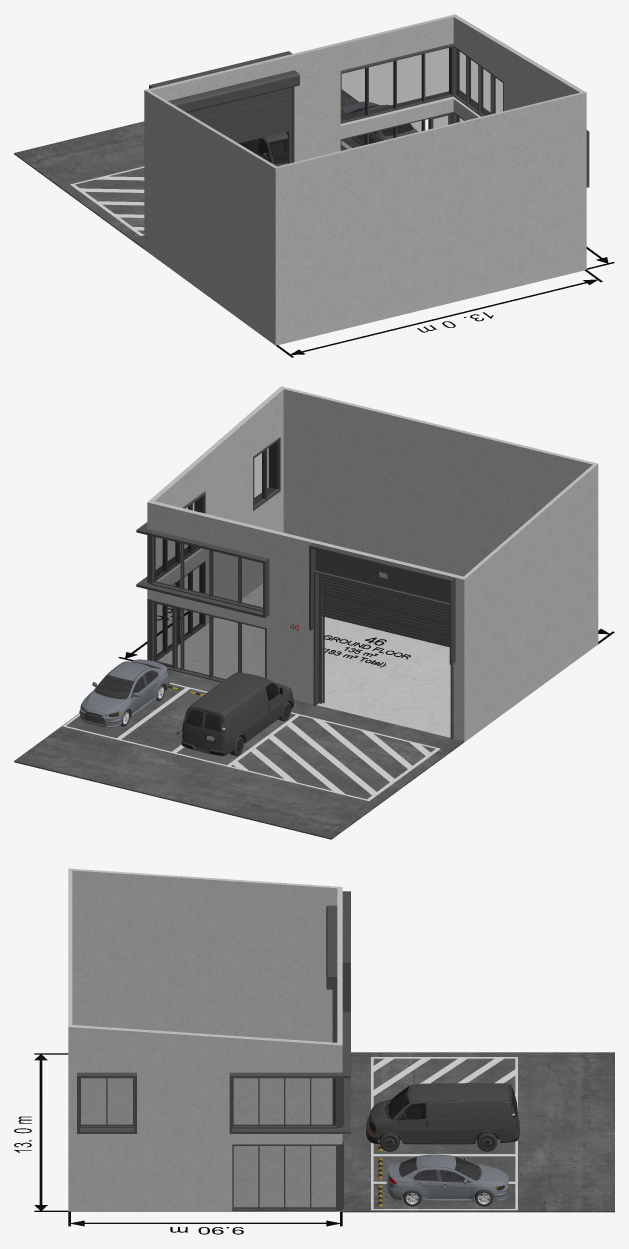
The model's file is Without_Mezzanine.glb.
The picture shows the model from 3 angles, top to bottom: view 1: azimuth 30°, elevation 25°; view 2: azimuth 150°, elevation 25°; view 3: azimuth 270°, elevation 25°; orthographic projection. The views are drawn at different scales.
Visible parts, largest first — view 1: Object1746169868.002, Object1746169869.002, Shape113.002, Box2131637733.002, Box2131647078.003, Segment 004.002, Rectangle2140.002, Object1746169150.002, Rectangle2139.002, Layer:023.003, AM132_020_06.002, AM132_031_Collapsed.002 (+3 smaller); view 2: Object1746169868.002, Box2131647078.003, Object1746169869.002, Shape113.002, Shape114.002, Box2131637733.002, AM132_020_06.002, Segment 004.002, AM132_031_Collapsed.002, Layer:023.003, Component#120 [25525]110.002, Component#121 [25528]110.002 (+6 smaller); view 3: Object1746169869.002, Shape113.002, Box2131647078.003, Shape114.002, AM132_020_06.002, Box2131637733.002, Object1746169871.002, AM132_031_Collapsed.002, Rectangle2141.002, Layer:023.003, Rectangle2140.002, Component#121 [25528]110.002 (+5 smaller).
Part boxes in pixels (box(x1,y1,x2,y2)): Object1746169868.002: box(273, 92, 582, 345); Object1746169869.002: box(147, 91, 276, 340); Shape113.002: box(144, 14, 586, 270); Box2131637733.002: box(340, 43, 503, 150); Box2131647078.003: box(14, 89, 361, 249); Segment 004.002: box(188, 88, 289, 143); Rectangle2140.002: box(340, 96, 480, 138); Object1746169150.002: box(168, 70, 299, 112); Rectangle2139.002: box(340, 35, 503, 79); Layer:023.003: box(70, 166, 144, 235); AM132_020_06.002: box(239, 132, 287, 166); AM132_031_Collapsed.002: box(341, 101, 417, 145); Object1746169868.002: box(283, 387, 598, 645); Box2131647078.003: box(14, 669, 464, 839); Object1746169869.002: box(464, 464, 596, 736); Shape113.002: box(147, 386, 466, 741); Shape114.002: box(158, 584, 450, 737); Box2131637733.002: box(136, 492, 269, 682); AM132_020_06.002: box(181, 672, 293, 755); Segment 004.002: box(322, 575, 449, 647); AM132_031_Collapsed.002: box(79, 659, 169, 727); Layer:023.003: box(226, 713, 440, 801); Component#120 [25525]110.002: box(315, 549, 449, 602); Component#121 [25528]110.002: box(309, 543, 455, 664); Object1746169869.002: box(72, 868, 337, 1042); Shape113.002: box(68, 886, 342, 1211); Box2131647078.003: box(342, 1052, 614, 1212); Shape114.002: box(81, 1078, 342, 1211); AM132_020_06.002: box(365, 1083, 519, 1151); Box2131637733.002: box(229, 1011, 350, 1208); Object1746169871.002: box(232, 1144, 337, 1211); AM132_031_Collapsed.002: box(386, 1154, 508, 1206); Rectangle2141.002: box(77, 1072, 136, 1133); Layer:023.003: box(371, 1057, 517, 1111); Rectangle2140.002: box(232, 1134, 342, 1144); Component#121 [25528]110.002: box(342, 891, 350, 1011).
Bounding box in the file's own units: 15.73 × 7.5 × 22.07.
60 materials, 12 textured.
